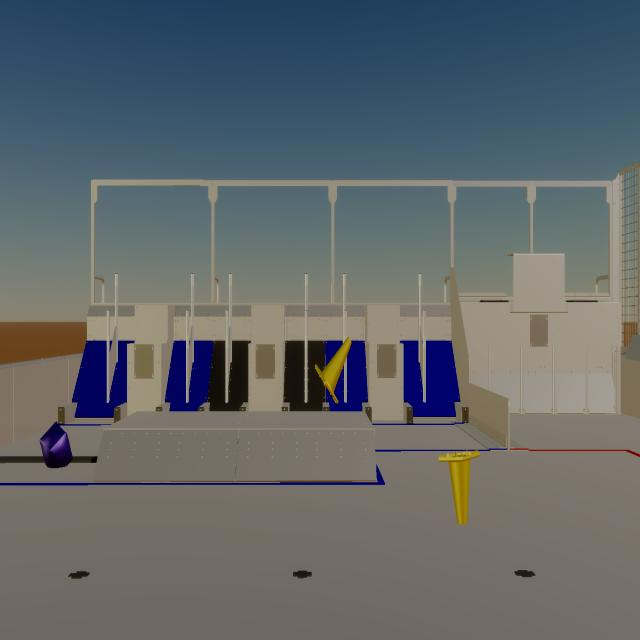frc_cone: (438, 450, 480, 524), (315, 337, 352, 404)
frc_cube: (40, 421, 72, 468)
